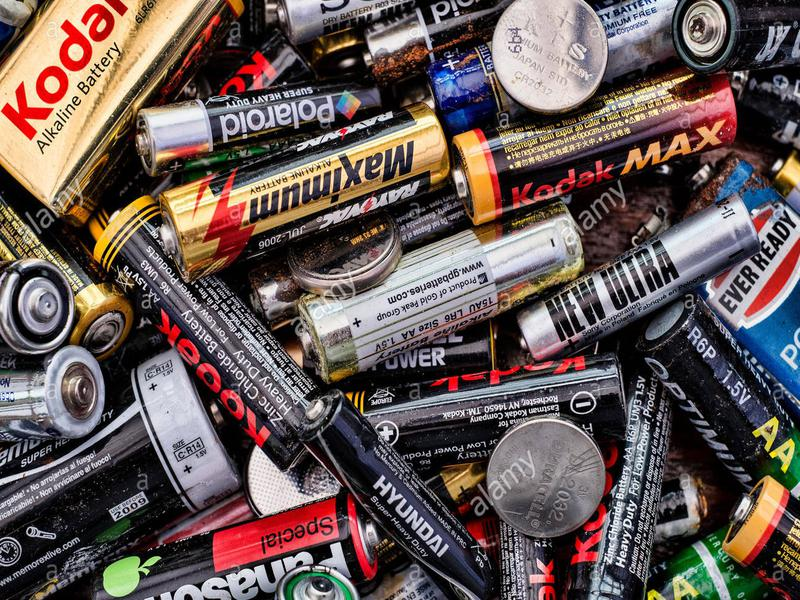battery: (81, 193, 330, 477), (151, 99, 452, 287), (289, 198, 586, 384), (447, 68, 746, 230), (507, 189, 766, 366), (295, 389, 508, 600), (639, 294, 800, 501)
